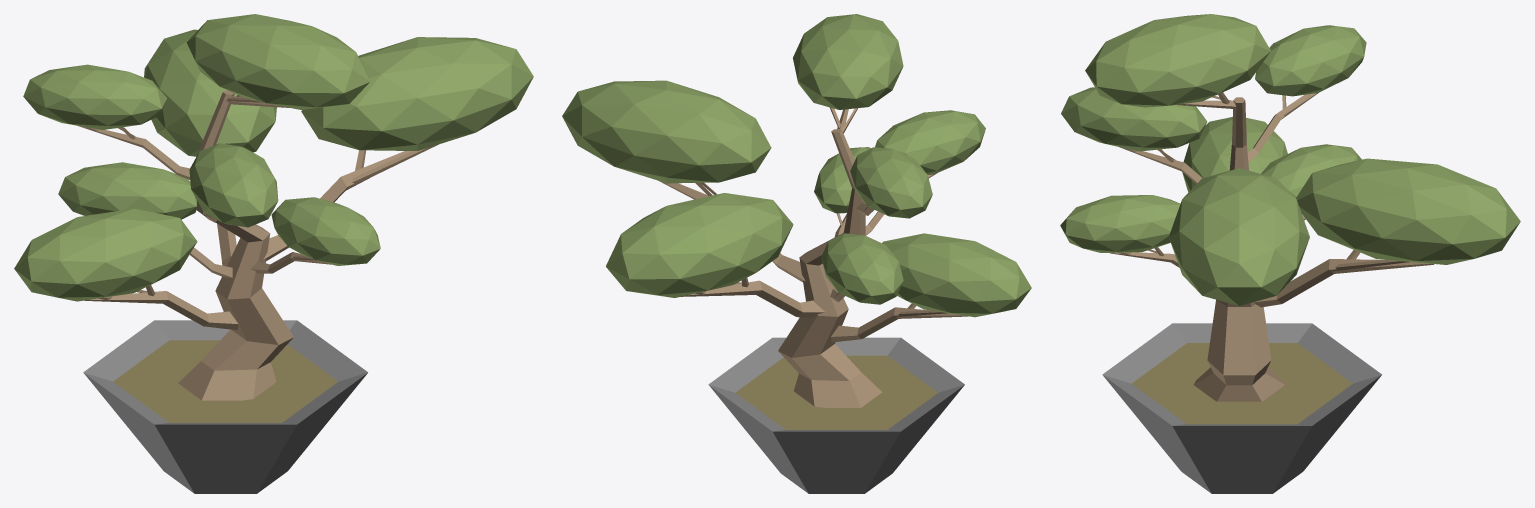
File: bonsai.glb
3 views of the same model, side by side, from view 1: azimuth 30°, elevation 25°; view 2: azimuth 150°, elevation 25°; view 3: azimuth 270°, elevation 25° (orthographic). The views are drawn at different scales.
Visible parts, largest first — view 1: Bonsai1; view 2: Bonsai1; view 3: Bonsai1.
Boxes of the visible parts, x1,y1,x2,y2 form: Bonsai1: (14, 14, 533, 493); Bonsai1: (562, 14, 1031, 493); Bonsai1: (1060, 14, 1520, 493).
Bounding box in the file's own units: 2.58 × 2.28 × 2.09.
